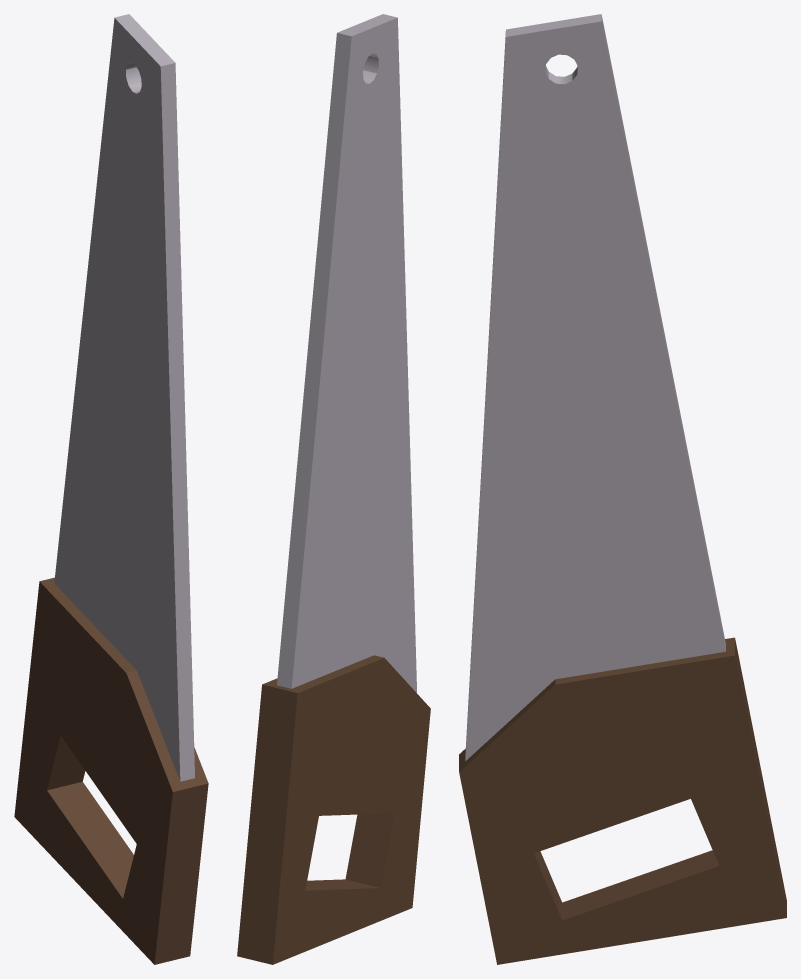
File: Saw.fbx
3 views of the same model, side by side, from view 1: azimuth 30°, elevation 25°; view 2: azimuth 150°, elevation 25°; view 3: azimuth 270°, elevation 25° (orthographic). The views are drawn at different scales.
Parts seen in each view (by area): view 1: Cylinder.085, Cube.009; view 2: Cylinder.085, Cube.009; view 3: Cylinder.085, Cube.009.
Boxes of the visible parts, x1,y1,x2,y2 form: Cylinder.085: (54, 14, 194, 781); Cube.009: (14, 577, 208, 964); Cylinder.085: (277, 14, 416, 692); Cube.009: (237, 655, 430, 964); Cylinder.085: (465, 14, 725, 760); Cube.009: (459, 637, 786, 964).
Bounding box in the file's own units: 12.87 × 312 × 98.87.
